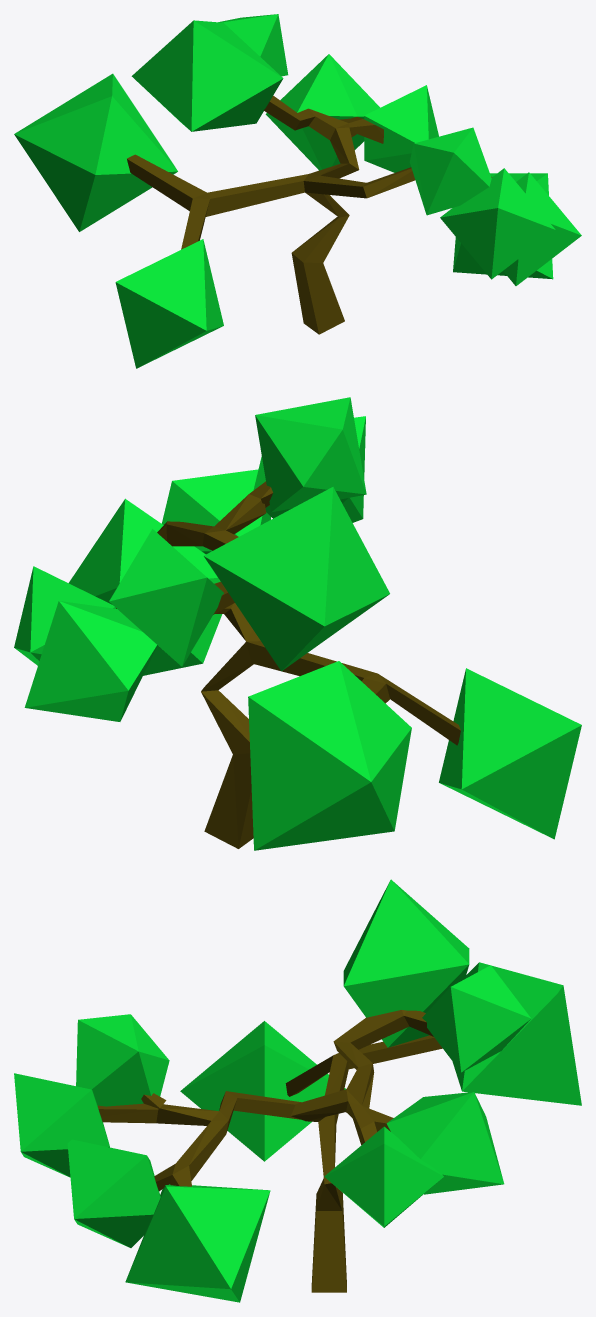
File: Tree.fbx
3 views of the same model, one above another, from view 1: azimuth 30°, elevation 25°; view 2: azimuth 150°, elevation 25°; view 3: azimuth 270°, elevation 25° (orthographic). The views are drawn at different scales.
Parts seen in each view (by area): view 1: Cube, Icosphere.001, Icosphere.003, Icosphere, Icosphere.008, Icosphere.004, Icosphere.009, Icosphere.005, Icosphere.007, Icosphere.002, Icosphere.006; view 2: Icosphere.001, Icosphere.003, Icosphere, Cube, Icosphere.004, Icosphere.009, Icosphere.002, Icosphere.006, Icosphere.007, Icosphere.005, Icosphere.008; view 3: Cube, Icosphere.006, Icosphere.003, Icosphere.001, Icosphere, Icosphere.004, Icosphere.007, Icosphere.009, Icosphere.002, Icosphere.008, Icosphere.005.
Part boxes in pixels (x1,y1,x2,y2): Cube: (127, 95, 491, 334); Icosphere.001: (14, 73, 177, 231); Icosphere.003: (131, 20, 283, 131); Icosphere: (115, 239, 223, 368); Icosphere.008: (440, 168, 555, 279); Icosphere.004: (265, 54, 380, 170); Icosphere.009: (409, 127, 491, 215); Icosphere.005: (364, 85, 438, 172); Icosphere.007: (503, 172, 581, 285); Icosphere.002: (218, 14, 288, 76); Icosphere.006: (453, 173, 553, 279); Icosphere.001: (248, 661, 411, 850); Icosphere.003: (204, 487, 389, 671); Icosphere: (439, 668, 581, 839); Cube: (116, 481, 460, 848); Icosphere.004: (24, 601, 157, 721); Icosphere.009: (255, 397, 366, 512); Icosphere.002: (109, 529, 223, 666); Icosphere.006: (69, 498, 222, 675); Icosphere.007: (161, 469, 270, 554); Icosphere.005: (14, 566, 115, 665); Icosphere.008: (253, 416, 365, 522); Cube: (97, 1010, 442, 1292); Icosphere.006: (125, 1184, 270, 1302); Icosphere.003: (343, 879, 469, 1047); Icosphere.001: (452, 962, 581, 1105); Icosphere: (180, 1021, 345, 1161); Icosphere.004: (386, 1092, 504, 1194); Icosphere.007: (67, 1139, 160, 1247); Icosphere.009: (76, 1014, 169, 1106); Icosphere.002: (422, 965, 531, 1072); Icosphere.008: (14, 1073, 109, 1177); Icosphere.005: (324, 1126, 443, 1227).
Bounding box in the file's own units: 424 × 300 × 433.
